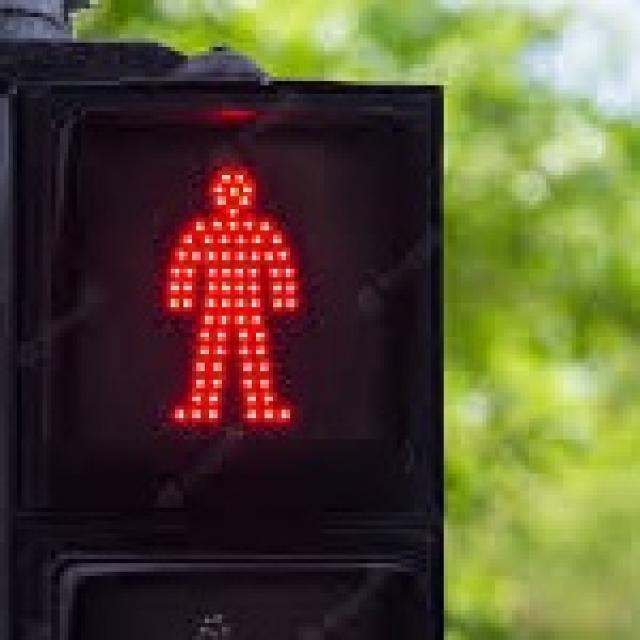red-crossing: (123, 128, 324, 448)
